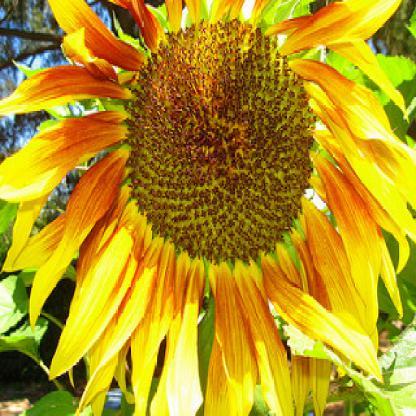SUN FLOWER: (9, 3, 404, 394)
